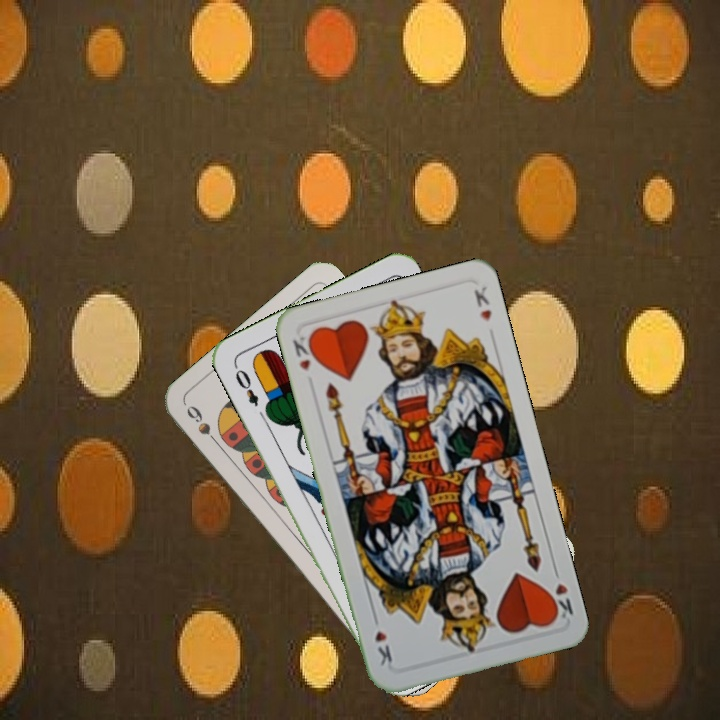EO: (230, 361, 261, 409)
HK: (543, 563, 576, 622), (289, 330, 319, 374)
S9: (182, 401, 225, 451)
